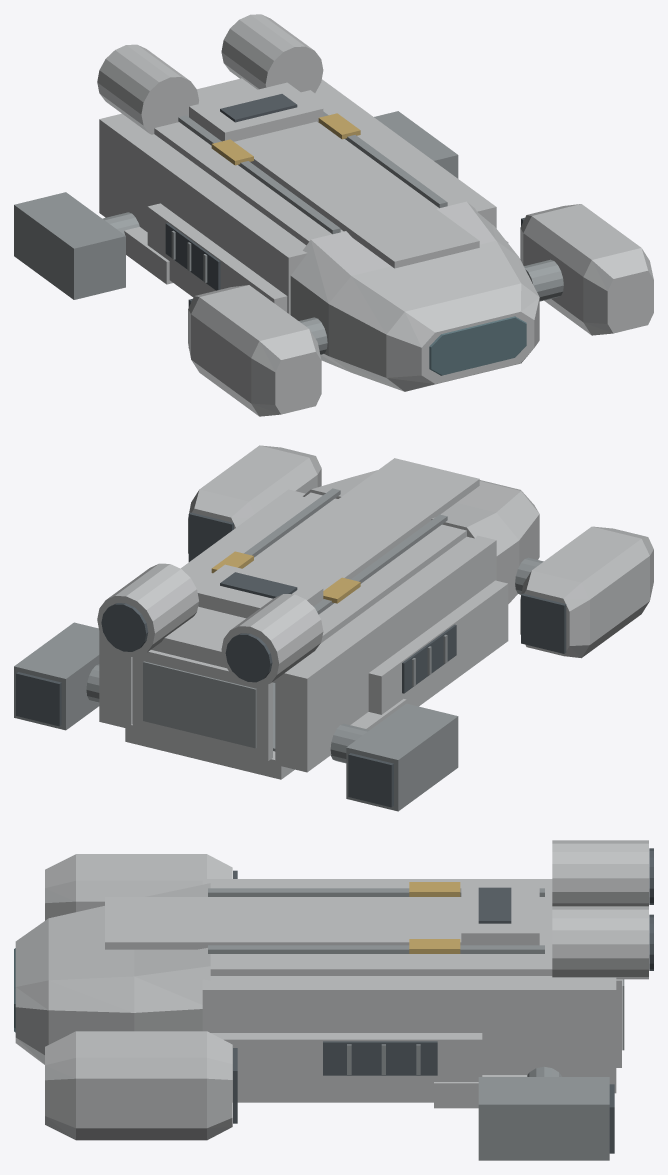
Rendered from shipit_white_off.glb.
3 views of the same model, one above another, from view 1: azimuth 30°, elevation 25°; view 2: azimuth 150°, elevation 25°; view 3: azimuth 270°, elevation 25° (orthographic). The views are drawn at different scales.
Parts seen in each view (by area): view 1: body_0, engine_L_pivot_housing, engine_R_pivot_housing, rear_L_pivot_housing, body_1, body_2, body_4, rear_R_pivot_housing, body_3; view 2: body_0, engine_L_pivot_housing, rear_L_pivot_housing, cargo_ramp_detail, body_4, engine_R_pivot_housing, rear_R_pivot_housing, body_1, cargo_ramp_panel, engine_L_pivot_nozzle, rear_L_pivot_nozzle, rear_R_pivot_nozzle (+2 smaller); view 3: body_0, engine_R_pivot_housing, rear_R_pivot_housing, engine_L_pivot_housing, body_4, body_1, body_3, cargo_ramp_panel.
Boxes of the visible parts, x1,y1,x2,y2 form: body_0: [97, 14, 539, 391]; engine_L_pivot_housing: [188, 285, 321, 416]; engine_R_pivot_housing: [520, 204, 653, 335]; rear_L_pivot_housing: [14, 192, 125, 299]; body_1: [102, 111, 563, 354]; body_2: [429, 316, 526, 375]; body_4: [165, 94, 297, 290]; rear_R_pivot_housing: [374, 111, 458, 178]; body_3: [211, 113, 360, 165]; body_0: [97, 458, 539, 779]; engine_L_pivot_housing: [520, 526, 653, 658]; rear_L_pivot_housing: [346, 703, 458, 811]; cargo_ramp_detail: [143, 661, 256, 748]; body_4: [101, 572, 456, 693]; engine_R_pivot_housing: [188, 445, 321, 553]; rear_R_pivot_housing: [14, 622, 99, 730]; body_1: [86, 488, 543, 763]; cargo_ramp_panel: [132, 650, 272, 760]; engine_L_pivot_nozzle: [521, 593, 566, 653]; rear_L_pivot_nozzle: [348, 753, 393, 807]; rear_R_pivot_nozzle: [16, 672, 61, 726]; body_0: [15, 840, 648, 1108]; engine_R_pivot_housing: [45, 1031, 232, 1140]; rear_R_pivot_housing: [478, 1077, 609, 1160]; engine_L_pivot_housing: [45, 854, 232, 920]; body_4: [323, 848, 653, 1075]; body_1: [208, 888, 561, 1076]; body_3: [409, 882, 460, 953]; cargo_ramp_panel: [616, 979, 621, 1067].
Size of the model in its own units: 2.76 by 1.1 by 3.51.
